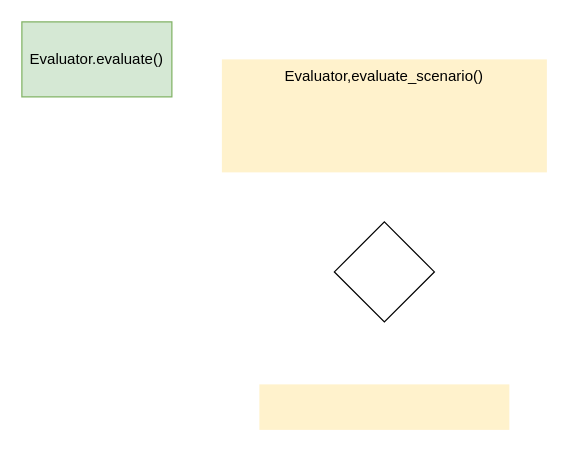
Image size: 569x451. Some labels were removed from this diagram. Here are the shapes that lost their labels. From the top down, the centre of each, then its label:
At point (383, 271): "save_results".
At point (384, 406): "save_results()".
